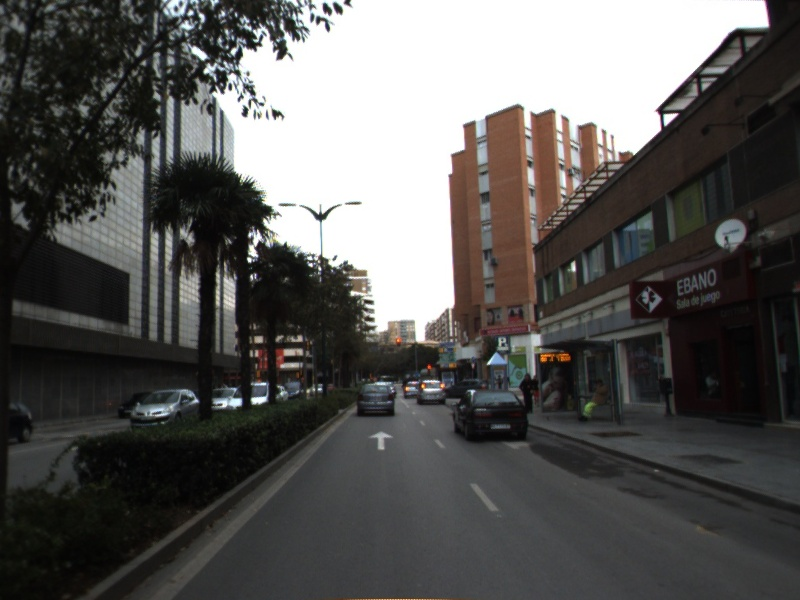STRAIGHT: (366, 429, 396, 452)
